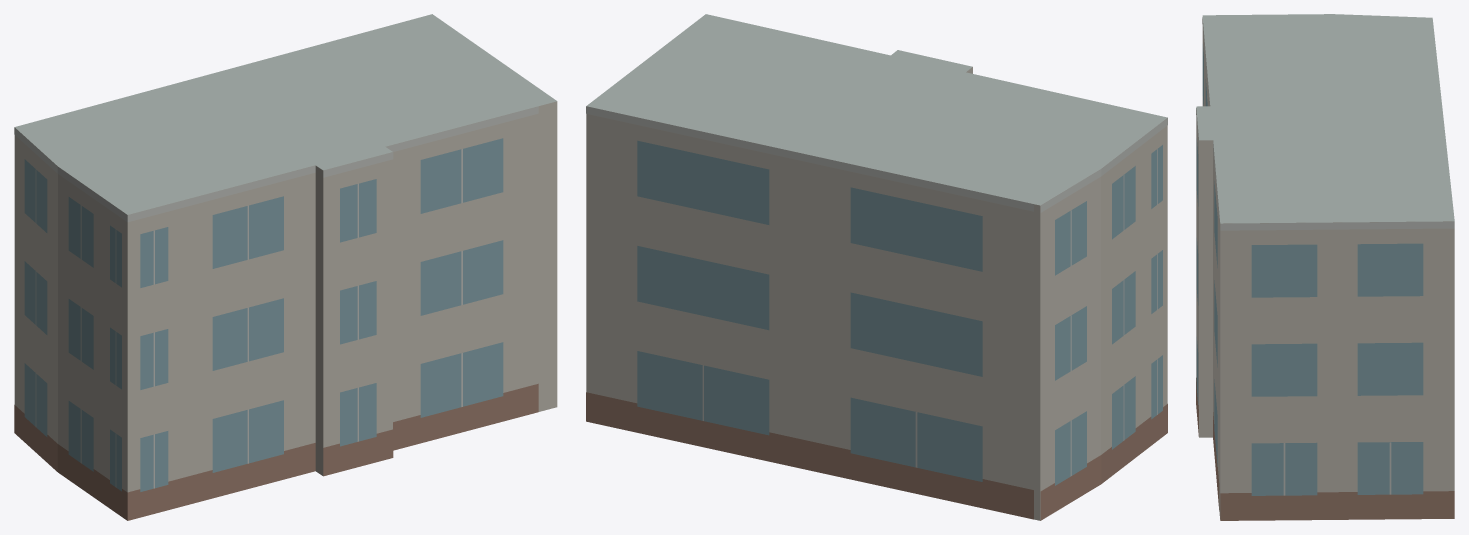
Rendered from survey-upis-33018119.glb.
The picture shows the model from 3 angles, left to right: view 1: azimuth 30°, elevation 25°; view 2: azimuth 150°, elevation 25°; view 3: azimuth 270°, elevation 25°; orthographic projection. The views are drawn at different scales.
Parts seen in each view (by area): view 1: survey-upis-33018119.tmp; view 2: survey-upis-33018119.tmp; view 3: survey-upis-33018119.tmp.
Boxes of the visible parts, x1,y1,x2,y2 form: survey-upis-33018119.tmp: (14,14,557,520); survey-upis-33018119.tmp: (586,14,1167,520); survey-upis-33018119.tmp: (1196,14,1454,520).
Bounding box in the file's own units: 15.27 × 10.1 × 7.97.
